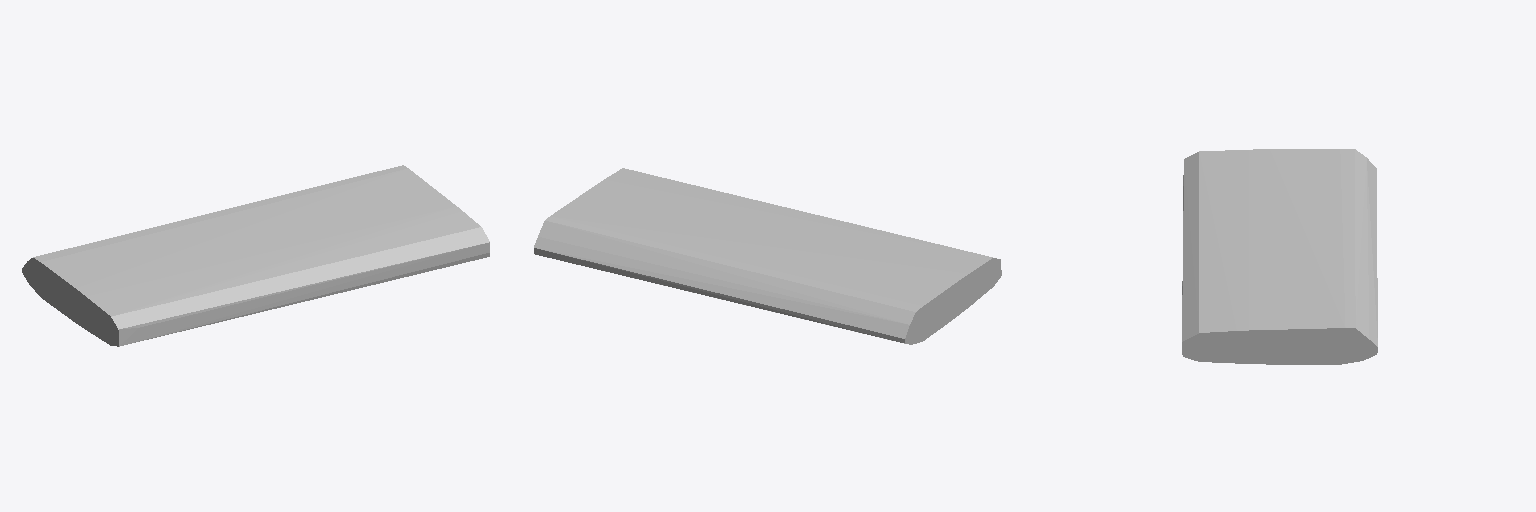
Rendered from sofa_collision_19.obj.
3 views of the same model, side by side, from view 1: azimuth 30°, elevation 25°; view 2: azimuth 150°, elevation 25°; view 3: azimuth 270°, elevation 25° (orthographic).
Bounding box in the file's own units: 170 × 16.19 × 78.09.